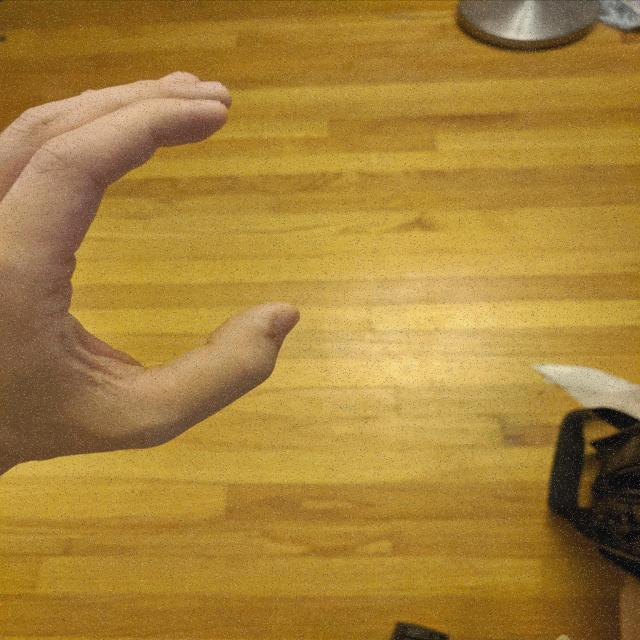C: (0, 65, 311, 472)
